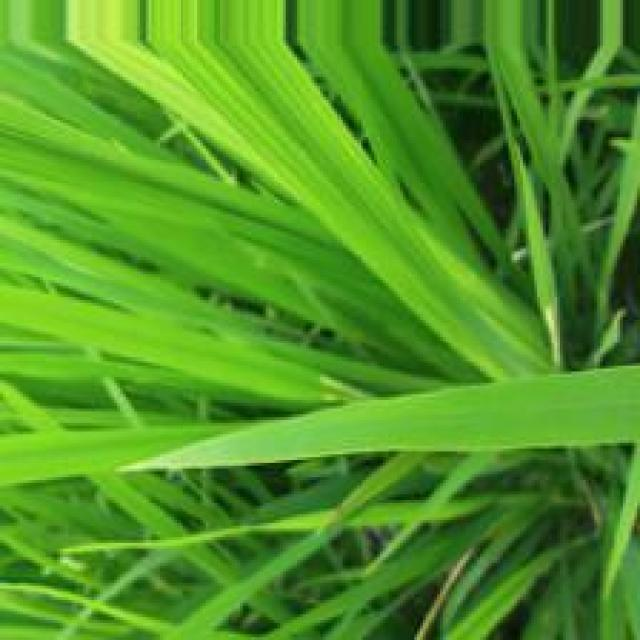HealthyLeaf: (122, 360, 637, 470)
